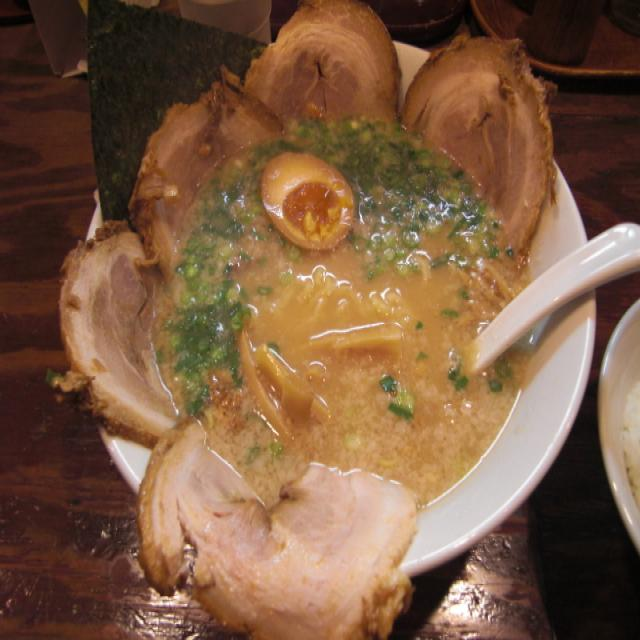面条主食: (72, 18, 548, 630)
